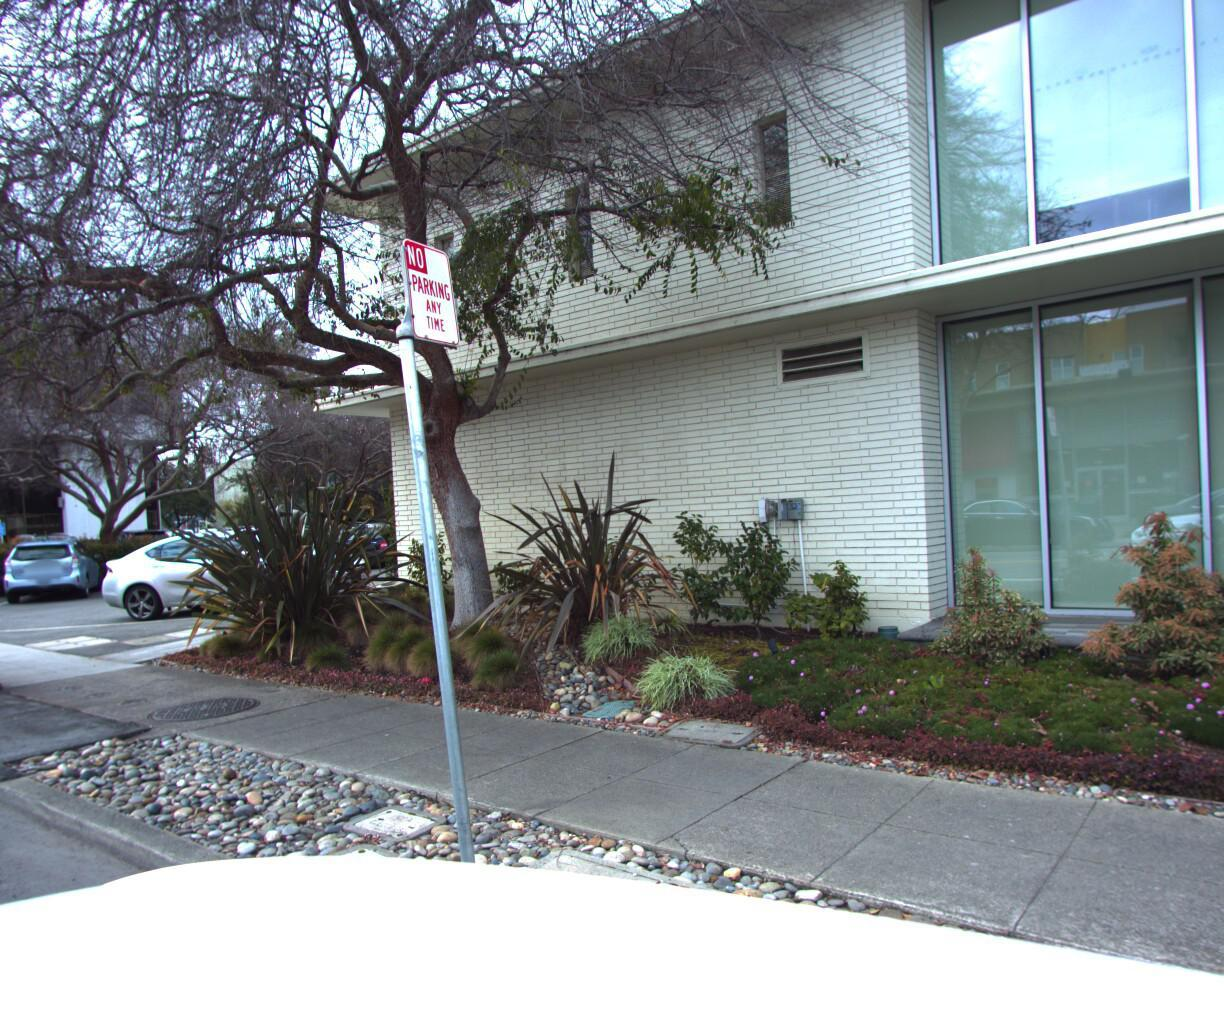car: (80, 513, 393, 623), (0, 528, 110, 603)
